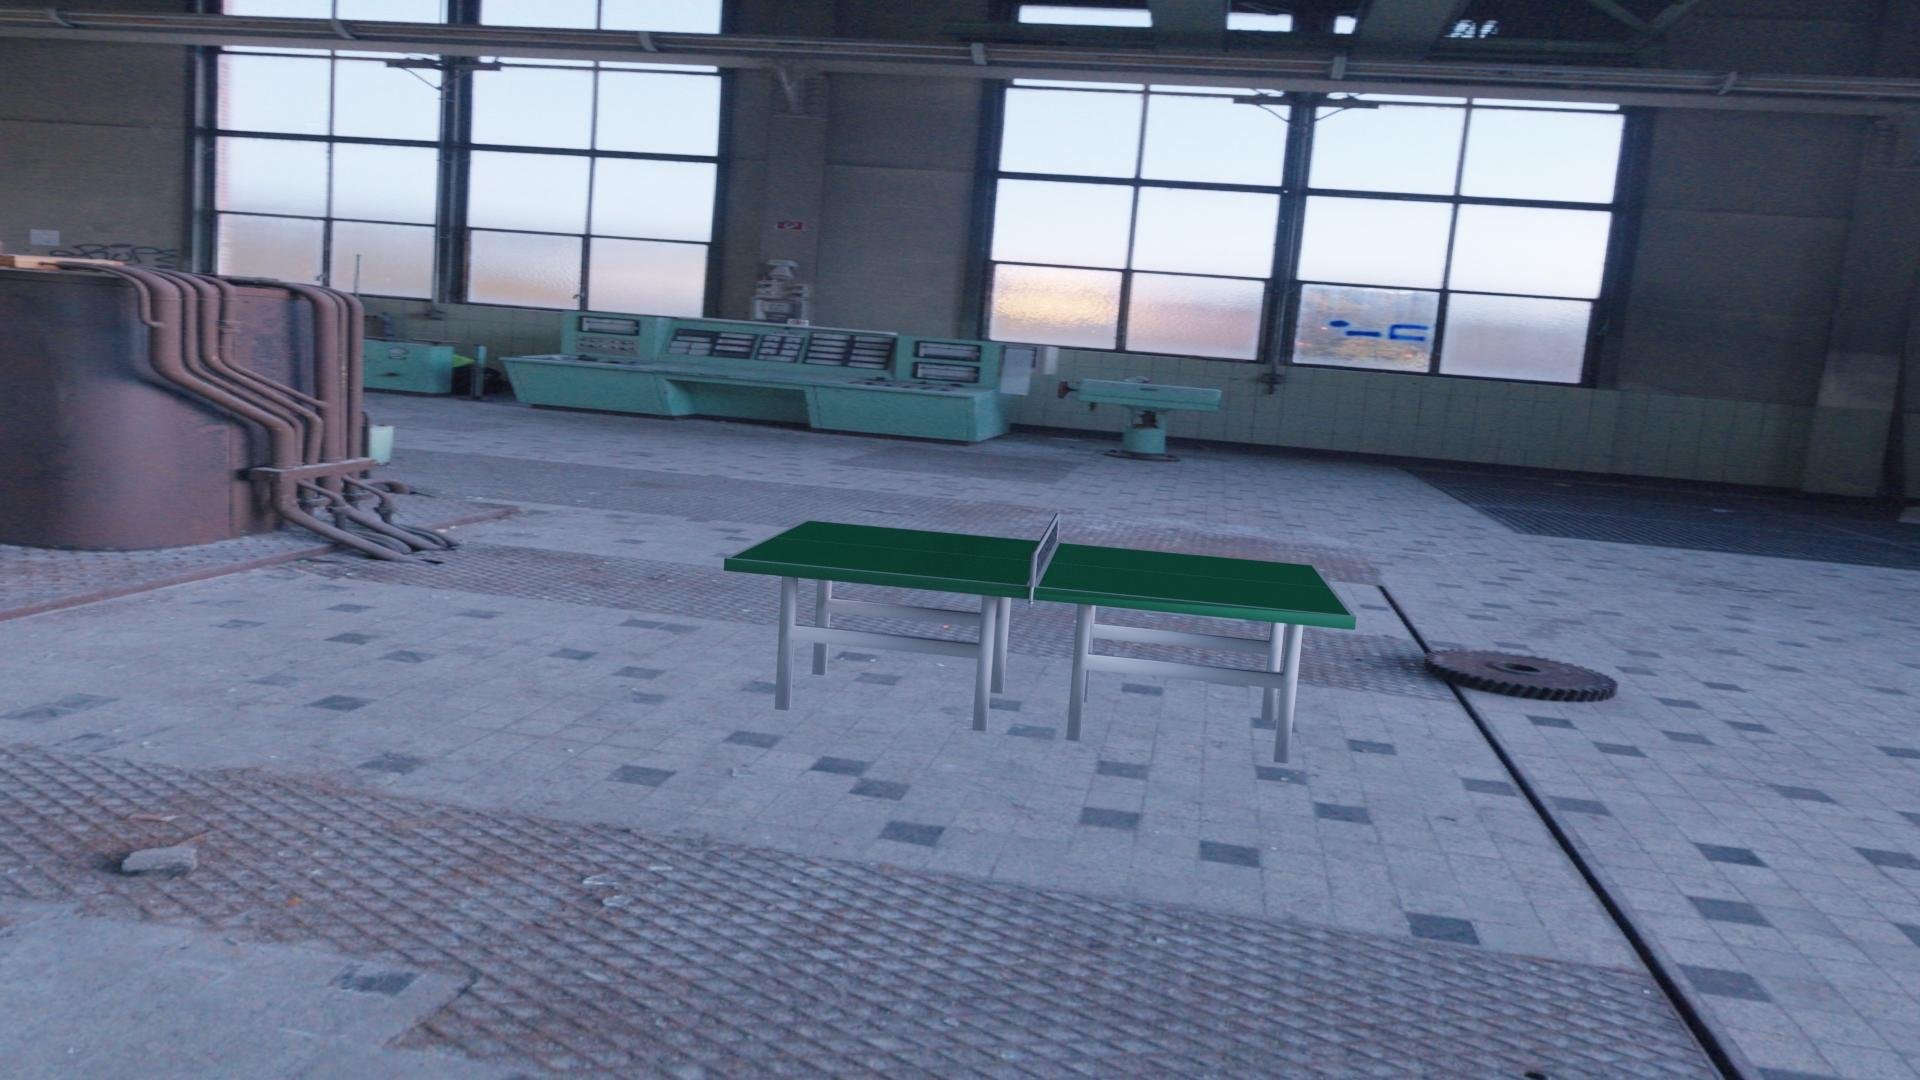table: (731, 521, 1350, 616)
